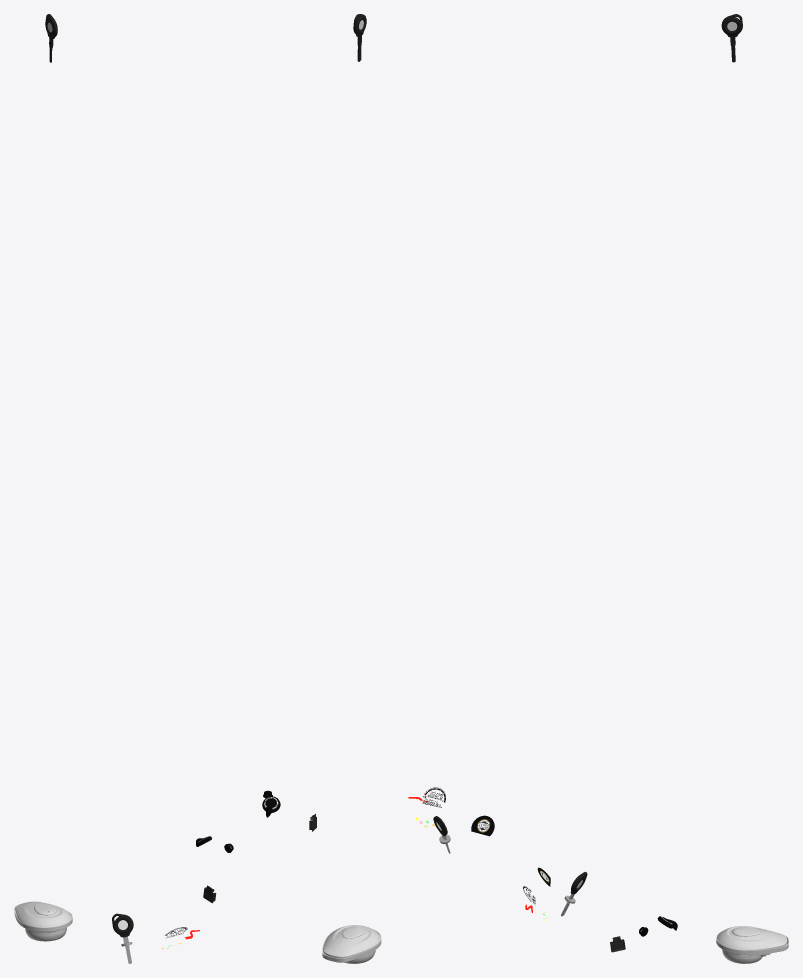
Rendered from anim.glb.
The picture shows the model from 3 angles, left to right: view 1: azimuth 30°, elevation 25°; view 2: azimuth 150°, elevation 25°; view 3: azimuth 270°, elevation 25°; orthographic projection. The views are drawn at different scales.
Visible parts, largest first — view 1: J1C_fuel_tank_cap_main; view 2: J1C_fuel_tank_cap_main; view 3: J1C_fuel_tank_cap_main.
Boxes of the visible parts, left/top/right/bottom form: J1C_fuel_tank_cap_main: left=15, top=901, right=71, bottom=927; J1C_fuel_tank_cap_main: left=323, top=925, right=380, bottom=958; J1C_fuel_tank_cap_main: left=717, top=926, right=787, bottom=950.
Size of the model in its own units: 0.3195 by 1.58 by 0.4043.
Materials: 25 (7 with a texture image).
